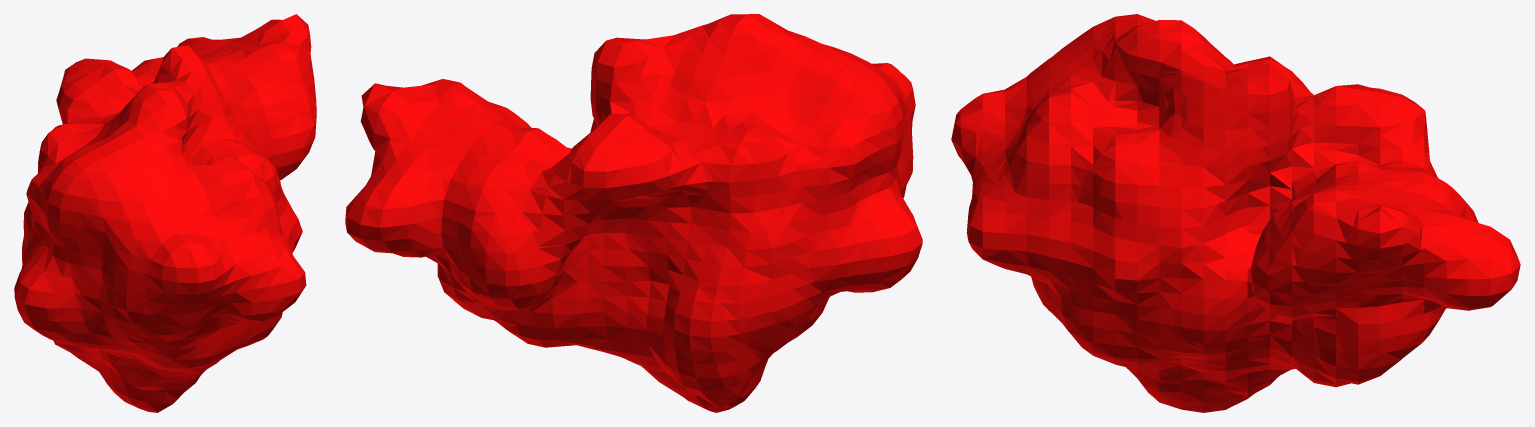
The model's file is pepB_coarse.dae.
The picture shows the model from 3 angles, left to right: view 1: azimuth 30°, elevation 25°; view 2: azimuth 150°, elevation 25°; view 3: azimuth 270°, elevation 25°; orthographic projection. The views are drawn at different scales.
Visible parts, largest first — view 1: pepB; view 2: pepB; view 3: pepB.
Part boxes in pixels (box(x1,y1,x2,y2)): pepB: box(14, 14, 316, 412); pepB: box(345, 14, 922, 412); pepB: box(951, 14, 1520, 412).
Size of the model in its own units: 72.23 by 58.72 by 77.96.
